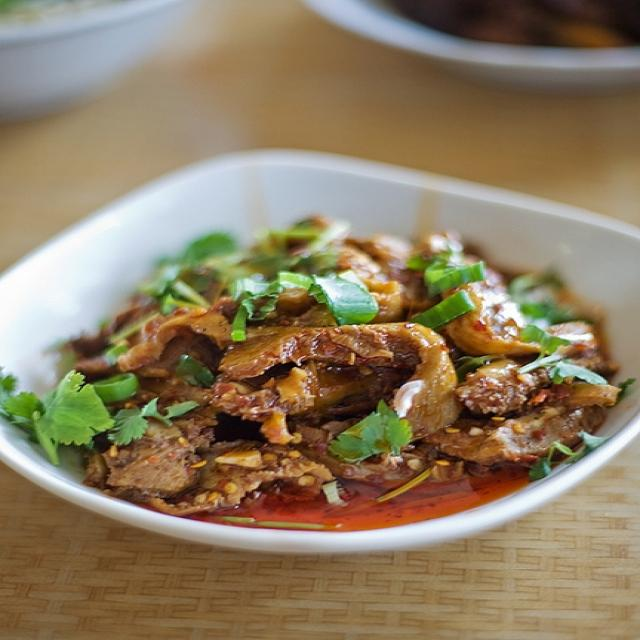面条主食: (8, 229, 626, 530)
